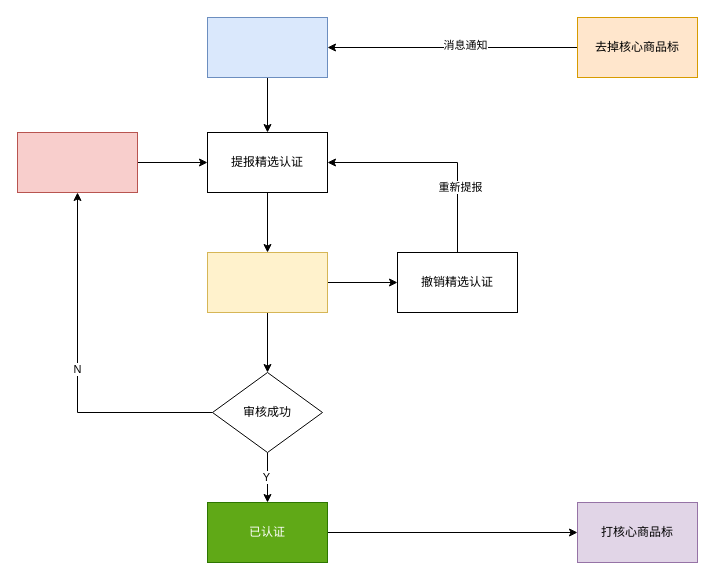
The diagram is 715 pixels wide and 580 high, and some of its shapes have lost their labels. The centre of each missing label's shape, as x and y in pixels:
待修改: (77,162)
未认证: (267,47)
认证中: (267,282)
